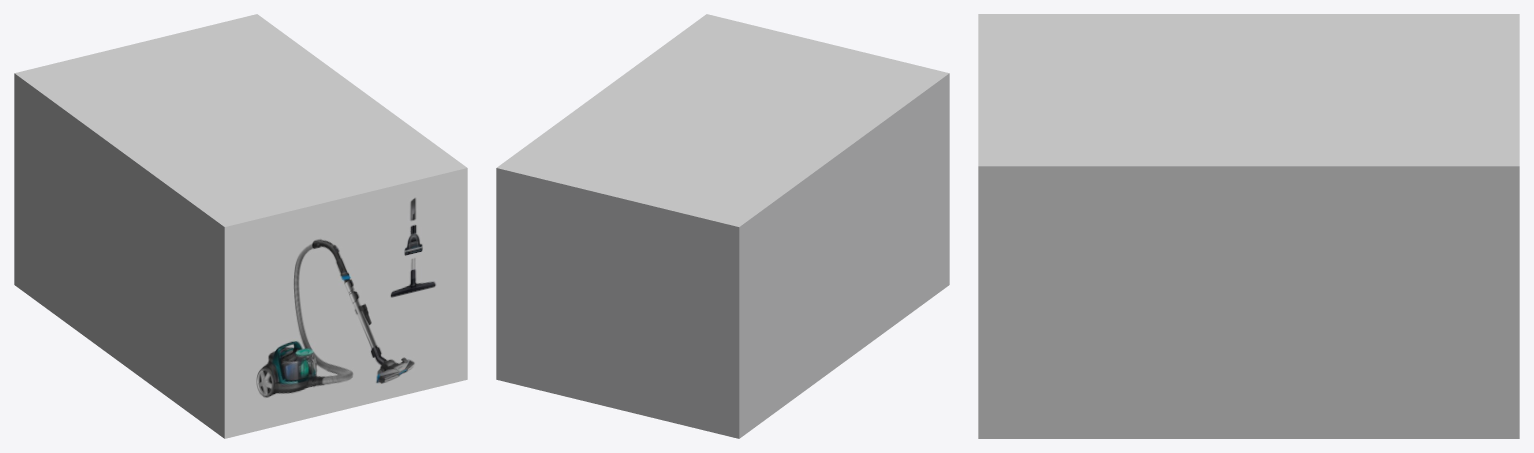
3 views of the same model, side by side, from view 1: azimuth 30°, elevation 25°; view 2: azimuth 150°, elevation 25°; view 3: azimuth 270°, elevation 25° (orthographic). The views are drawn at different scales.
Visible parts, largest first — view 1: product; view 2: product; view 3: product.
Part boxes in pixels (x1,y1,x2,y2): product: [14, 14, 467, 438]; product: [496, 14, 949, 438]; product: [978, 14, 1519, 438].
Bounding box in the file's own units: 0.3 × 0.25 × 0.45.
2 materials, 1 textured.
